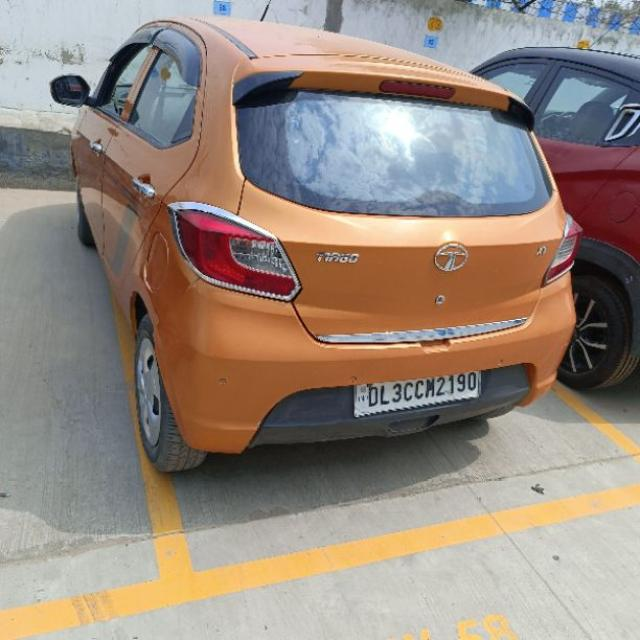license_plate: (351, 369, 481, 418)
